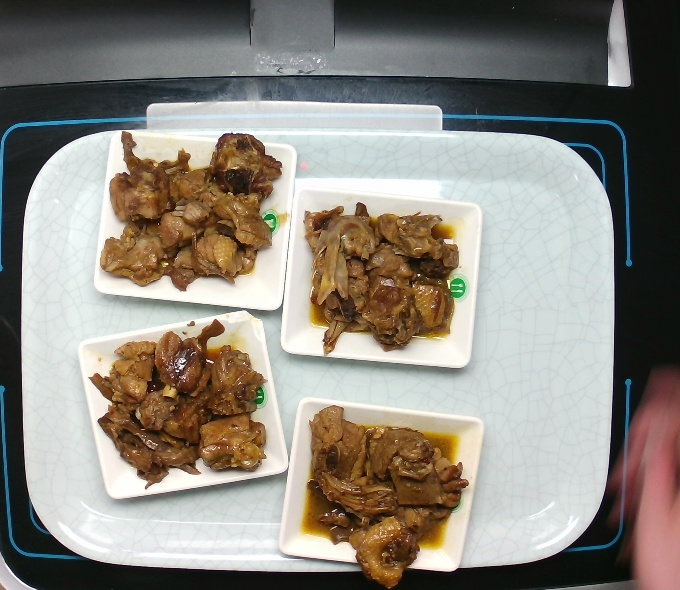wcq-HongShaoJi: (298, 398, 472, 584), (98, 122, 284, 294), (96, 324, 276, 491), (302, 179, 466, 349)
